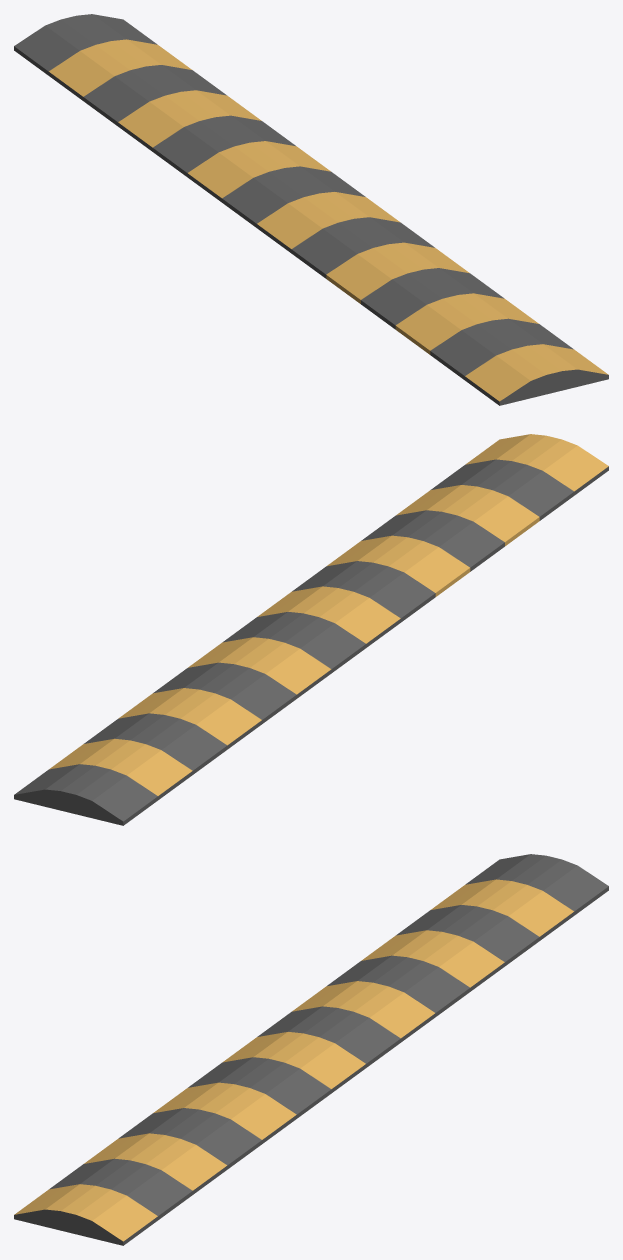
The model's file is pruk1.fbx.
3 views of the same model, one above another, from view 1: azimuth 30°, elevation 25°; view 2: azimuth 150°, elevation 25°; view 3: azimuth 330°, elevation 25° (orthographic).
Visible parts, largest first — view 1: Cube; view 2: Cube; view 3: Cube.
Part boxes in pixels (x1,y1,x2,y2): Cube: [14, 14, 608, 405]; Cube: [14, 434, 608, 825]; Cube: [14, 854, 608, 1245].
Size of the model in its own units: 14.24 by 2.43 by 109.
